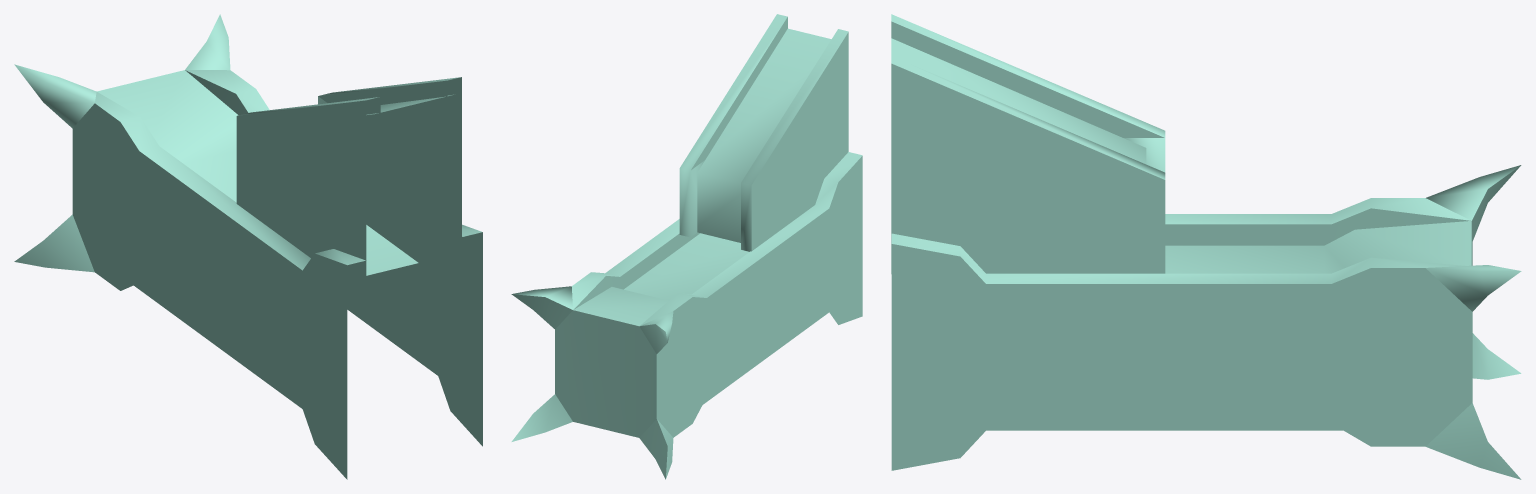
The picture shows the model from 3 angles, left to right: view 1: azimuth 30°, elevation 25°; view 2: azimuth 150°, elevation 25°; view 3: azimuth 270°, elevation 25°; orthographic projection. The views are drawn at different scales.
Parts seen in each view (by area): view 1: Object64; view 2: Object64; view 3: Object64.
Boxes of the visible parts, x1,y1,x2,y2 form: Object64: (14, 14, 482, 479); Object64: (511, 14, 862, 479); Object64: (891, 14, 1521, 479).
Size of the model in its own units: 17526 by 30488 by 43929.
